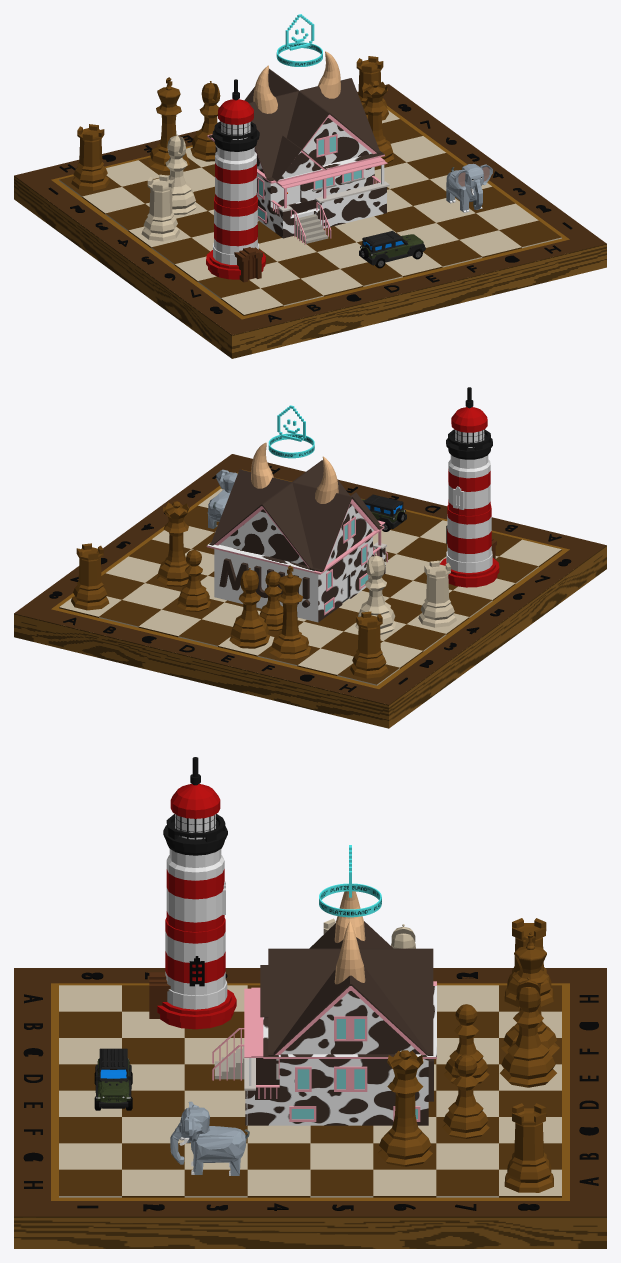
3 renders of one model, top to bottom at view 1: azimuth 30°, elevation 25°; view 2: azimuth 150°, elevation 25°; view 3: azimuth 270°, elevation 25°, orthographic. The views are drawn at different scales.
Visible parts, largest first — view 1: Cube.002, Cube.1242, OBJRANDOM_LIGHTHOUSE, VEHICLES_JEEP, ANIMAL_ELEFANTE, TYPE_PREMIUM; view 2: Cube.002, Cube.1242, OBJRANDOM_LIGHTHOUSE, VEHICLES_JEEP, TYPE_PREMIUM, ANIMAL_ELEFANTE; view 3: Cube.002, Cube.1242, OBJRANDOM_LIGHTHOUSE, ANIMAL_ELEFANTE, VEHICLES_JEEP, TYPE_PREMIUM.
Part boxes in pixels (x1,y1,x2,y2): Cube.002: (14,56,606,358); Cube.1242: (207,51,389,244); OBJRANDOM_LIGHTHOUSE: (206,79,265,282); VEHICLES_JEEP: (359,230,425,268); ANIMAL_ELEFANTE: (446,163,492,212); TYPE_PREMIUM: (276,14,322,66); Cube.002: (14,454,606,728); Cube.1242: (206,442,387,622); OBJRANDOM_LIGHTHOUSE: (440,387,499,587); VEHICLES_JEEP: (362,494,406,531); TYPE_PREMIUM: (268,405,314,458); ANIMAL_ELEFANTE: (207,469,237,528); Cube.002: (14,918,606,1248); Cube.1242: (212,891,436,1125); OBJRANDOM_LIGHTHOUSE: (149,757,236,1029); ANIMAL_ELEFANTE: (170,1101,249,1175); VEHICLES_JEEP: (94,1048,132,1110); TYPE_PREMIUM: (319,845,381,917).
Size of the model in its own units: 3981 by 2186 by 4012.
Materials: 43 (4 with a texture image).
